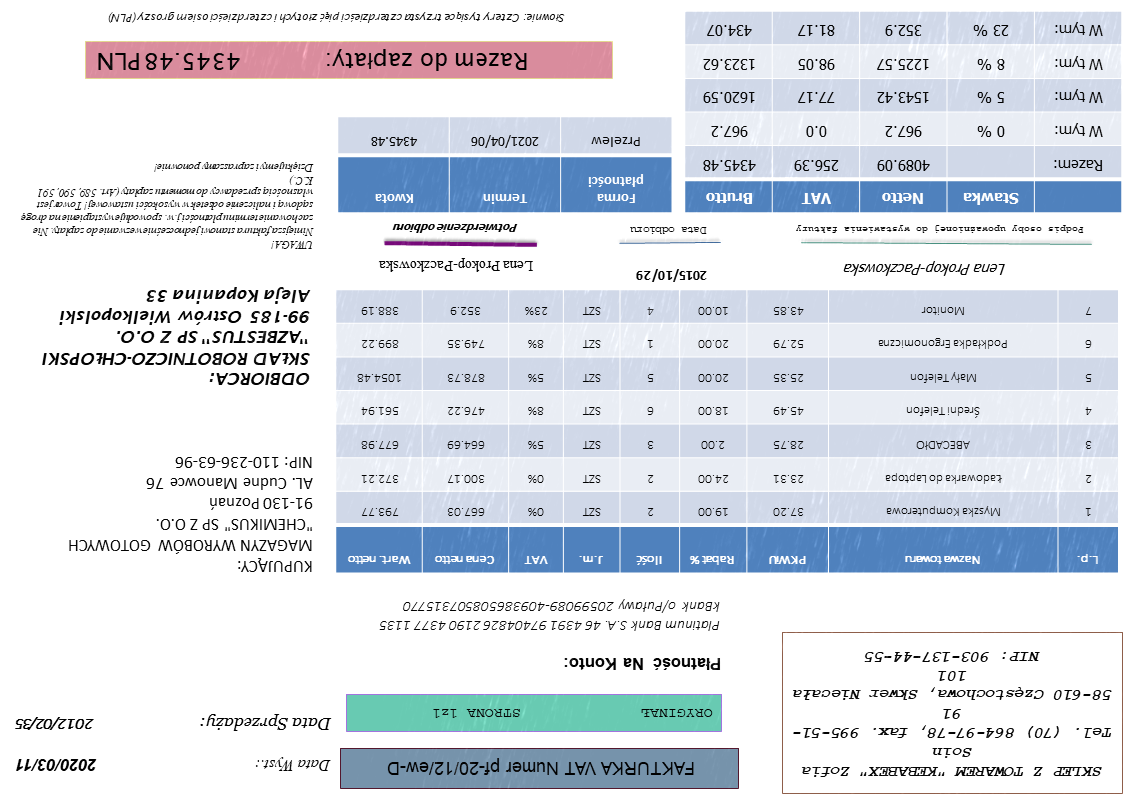Table: (334, 288, 1121, 574), (683, 9, 1122, 214), (336, 116, 673, 214)
TextBox: (789, 650, 1117, 780), (65, 453, 316, 578), (40, 285, 312, 389), (17, 159, 316, 253), (377, 598, 724, 635), (96, 47, 529, 74), (383, 756, 698, 781), (105, 10, 566, 26), (429, 705, 714, 722), (794, 223, 1087, 236), (841, 259, 1008, 279), (561, 654, 723, 674), (379, 257, 537, 276), (197, 712, 333, 733), (392, 221, 520, 237), (14, 756, 98, 774), (254, 756, 332, 775), (14, 715, 96, 733), (634, 266, 709, 285), (629, 223, 709, 238)
